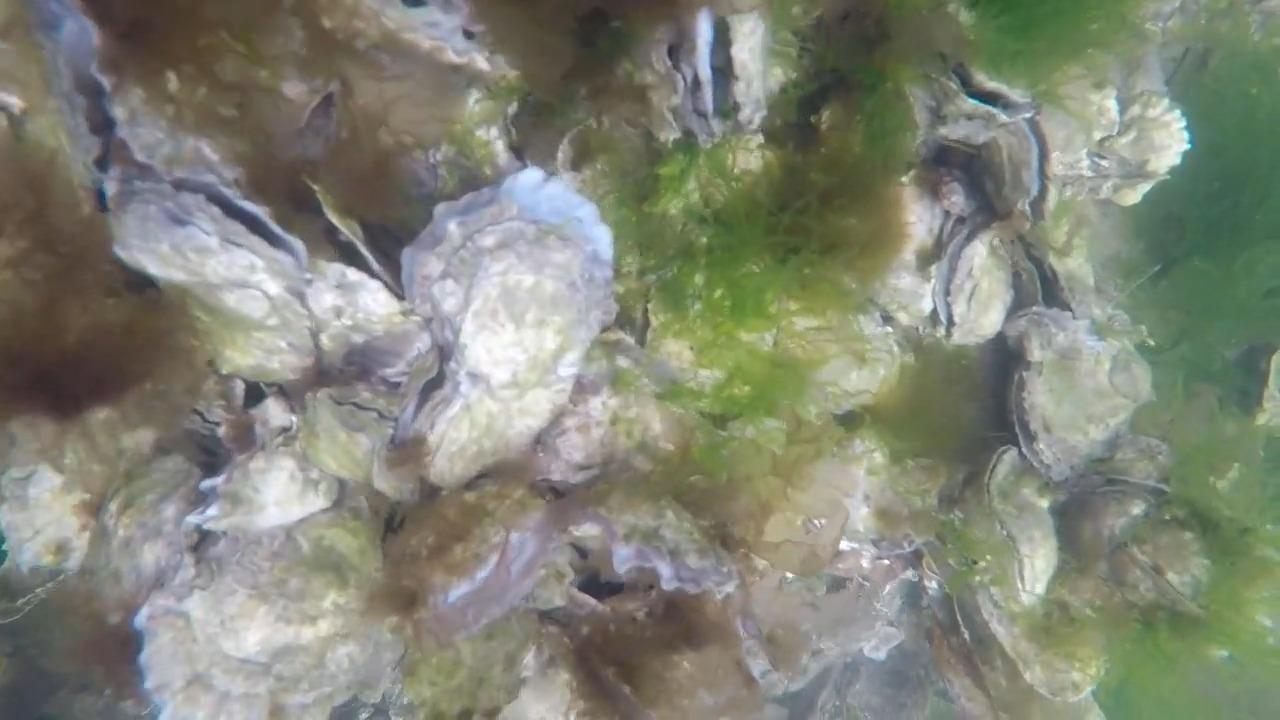Oyster: (392, 172, 617, 490), (400, 168, 618, 487), (139, 496, 410, 720), (974, 423, 1203, 652), (104, 170, 340, 392), (922, 47, 1188, 235), (46, 0, 266, 192), (383, 480, 586, 663), (541, 577, 764, 720), (529, 336, 702, 508), (740, 549, 927, 699), (999, 309, 1151, 485), (722, 429, 888, 581), (616, 8, 774, 150), (559, 493, 741, 612), (276, 251, 420, 396), (968, 565, 1112, 707), (336, 0, 524, 104), (92, 443, 205, 604), (786, 269, 905, 414), (187, 440, 349, 545), (390, 608, 537, 720), (0, 437, 109, 586), (1068, 86, 1196, 211), (580, 492, 736, 593), (1093, 513, 1218, 617), (293, 385, 407, 499), (978, 447, 1060, 601), (1051, 430, 1179, 513), (932, 227, 1018, 349), (489, 651, 583, 720), (1079, 290, 1153, 351), (555, 116, 611, 182), (160, 392, 237, 432), (228, 375, 285, 416)
